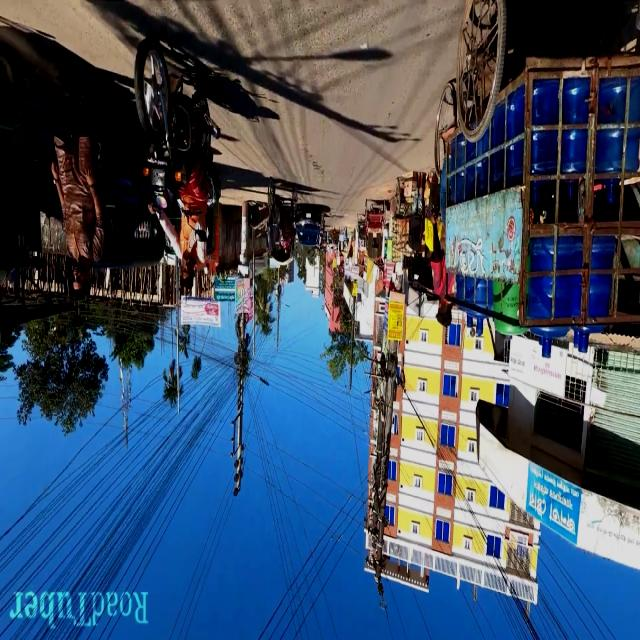black: (294, 203, 321, 246)
